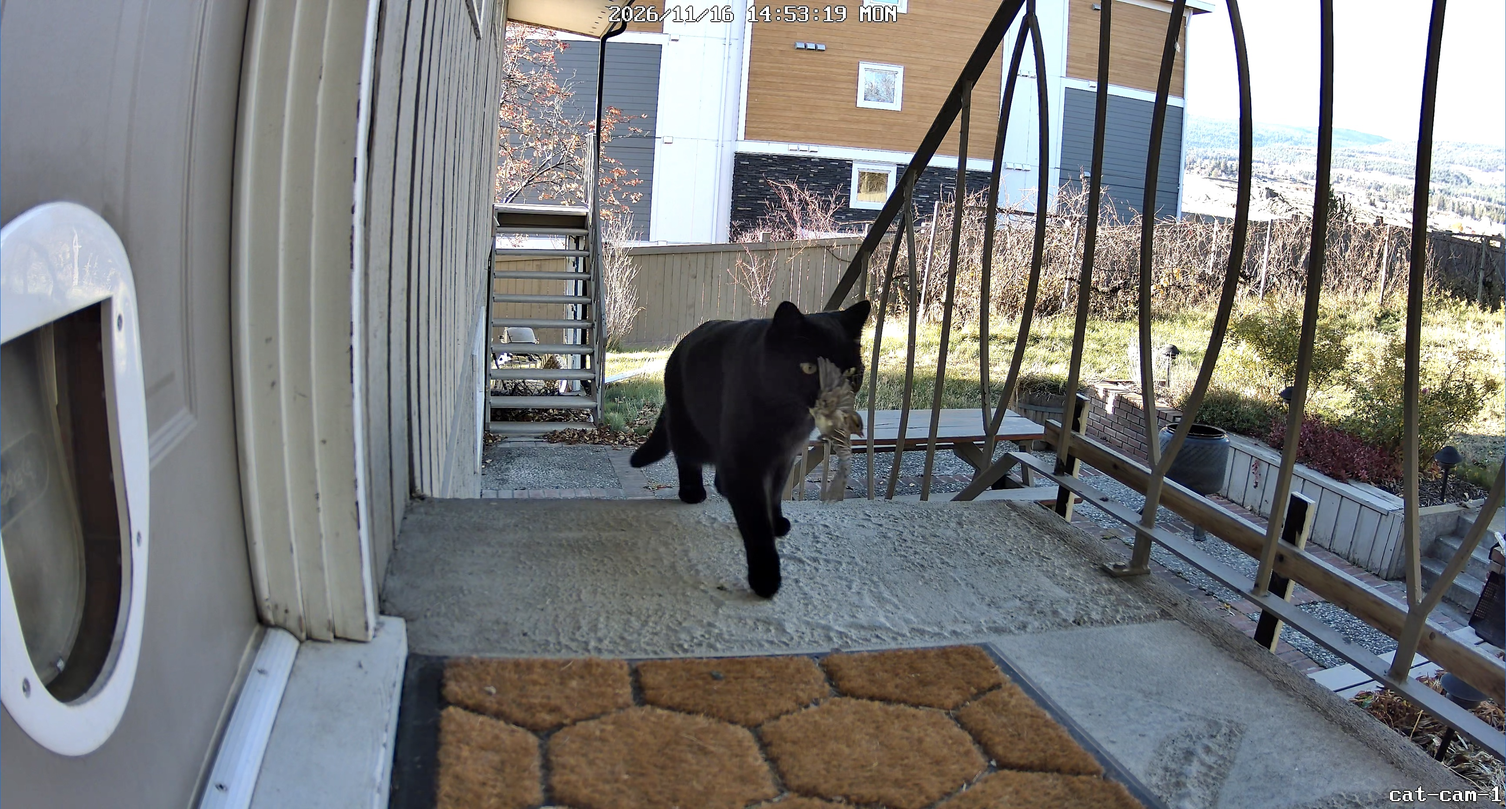prey: (800, 353, 867, 506)
